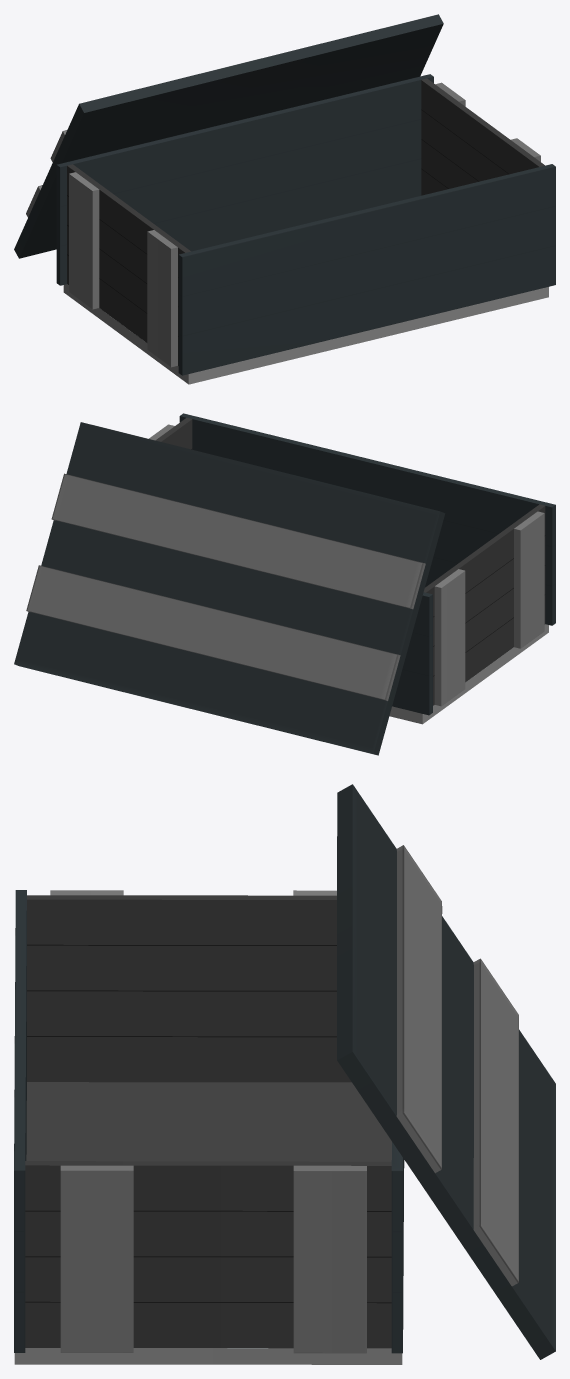
Rendered from Large Colored Crate #2.fbx.
3 renders of one model, top to bottom at view 1: azimuth 30°, elevation 25°; view 2: azimuth 150°, elevation 25°; view 3: azimuth 270°, elevation 25°, orthographic. The views are drawn at different scales.
Visible parts, largest first — view 1: Large Colored Crate #2; view 2: Large Colored Crate #2; view 3: Large Colored Crate #2.
Boxes of the visible parts, x1,y1,x2,y2 form: Large Colored Crate #2: [14, 14, 555, 384]; Large Colored Crate #2: [14, 413, 555, 755]; Large Colored Crate #2: [14, 784, 555, 1364].
Bounding box in the file's own units: 272 × 428 × 525.
1 material, 1 textured.
